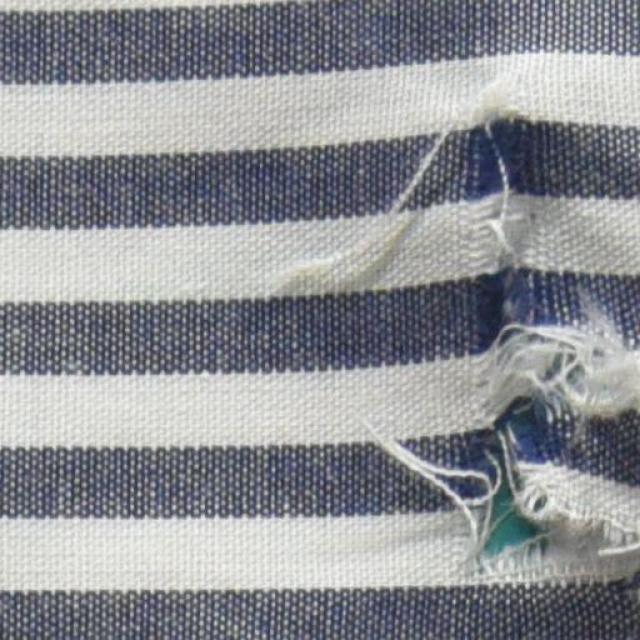cut: (455, 305, 640, 590), (467, 110, 525, 316)
